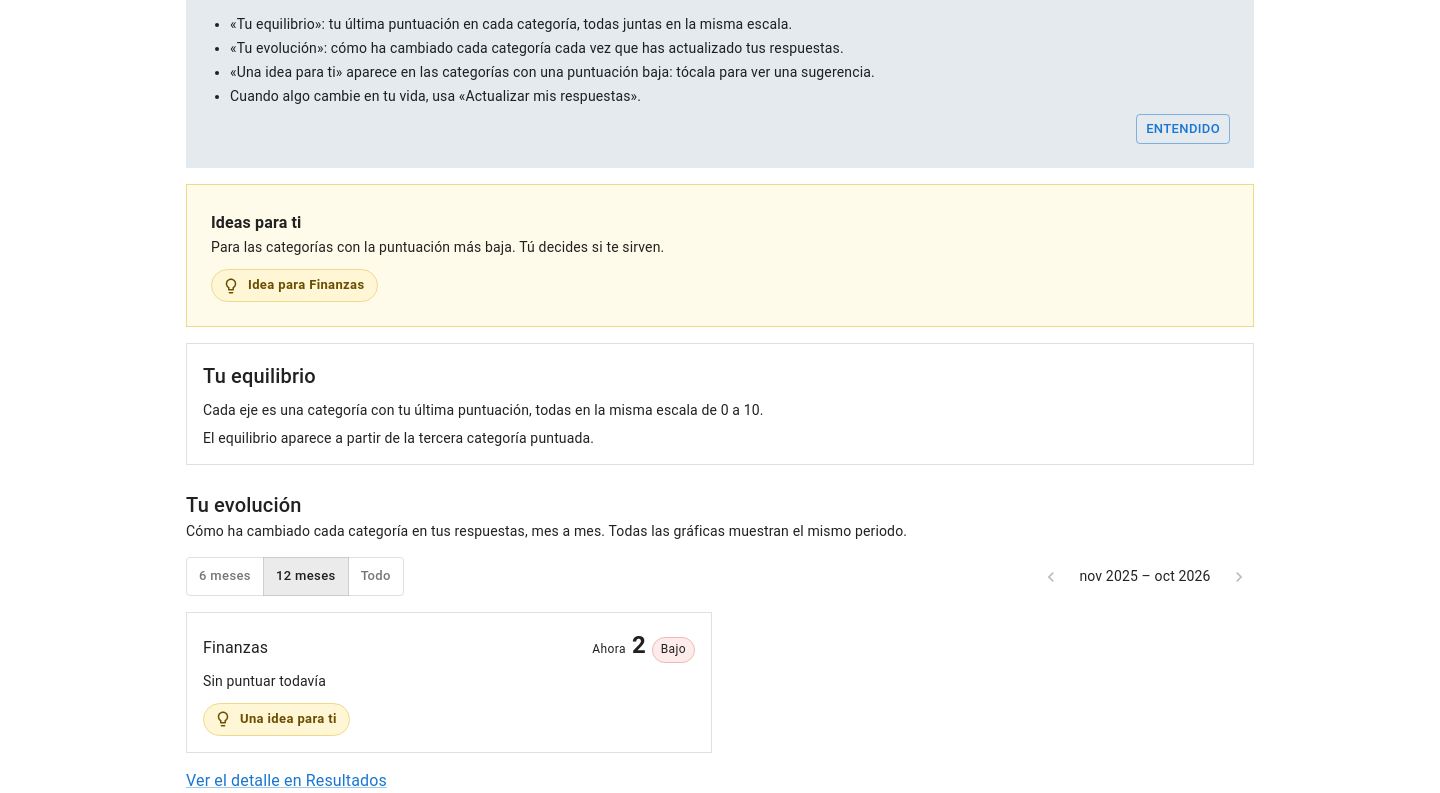
Home (RF-39 / RF-14) › el panel del usuario recurrente enseña la recomendación de una categoría baja
This screenshot has width=1440, height=793.
(page scrolled)
Expected: the text "en qué se va tu dinero" is not shown
Click the button "Una idea para ti" at [276, 719], box [203, 703, 350, 736]
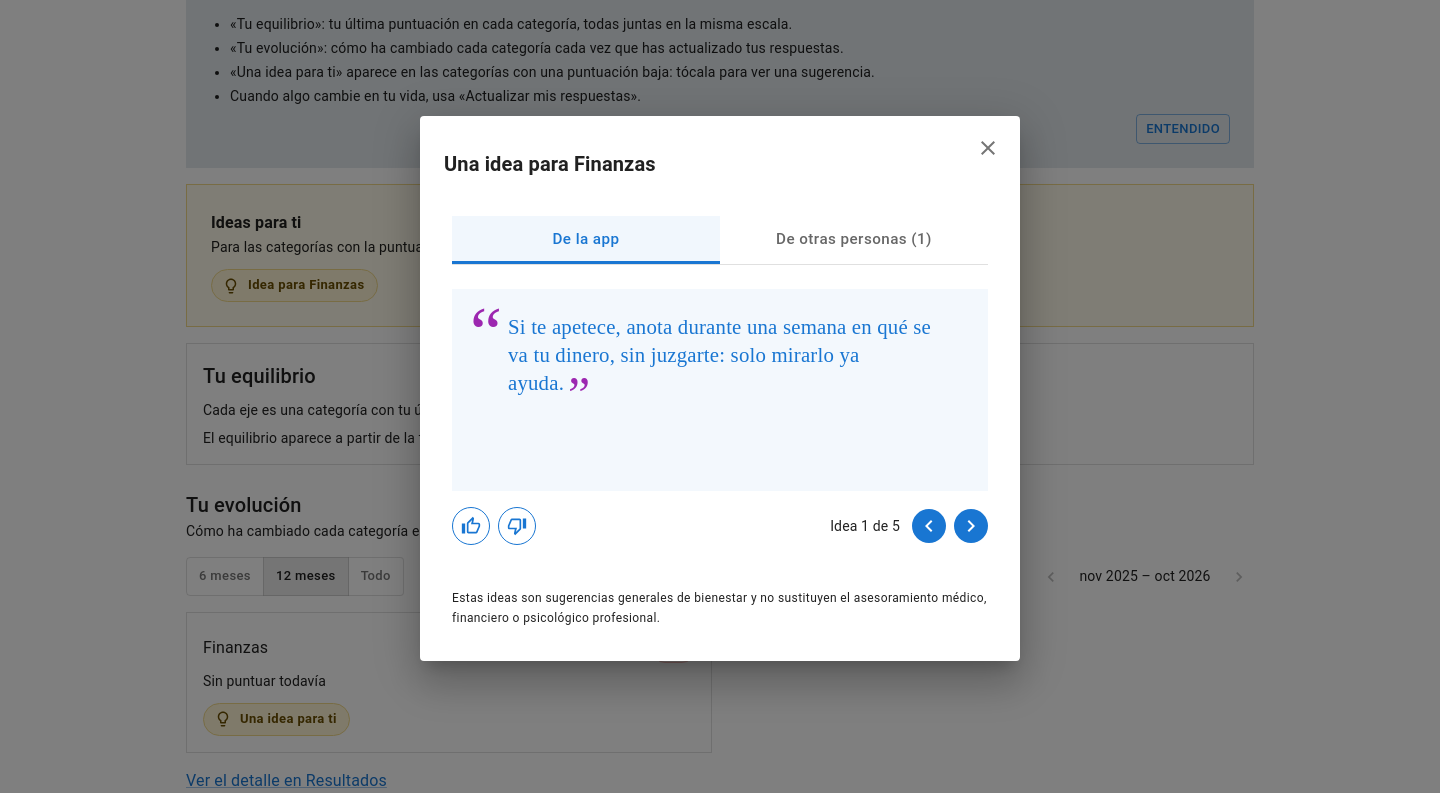
Now the text "en qué se va tu dinero" is shown, box [508, 314, 931, 394]
Now the text "no sustituyen el asesoramiento" is shown, box [452, 591, 987, 625]
